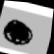correct: (0, 12, 39, 53)
